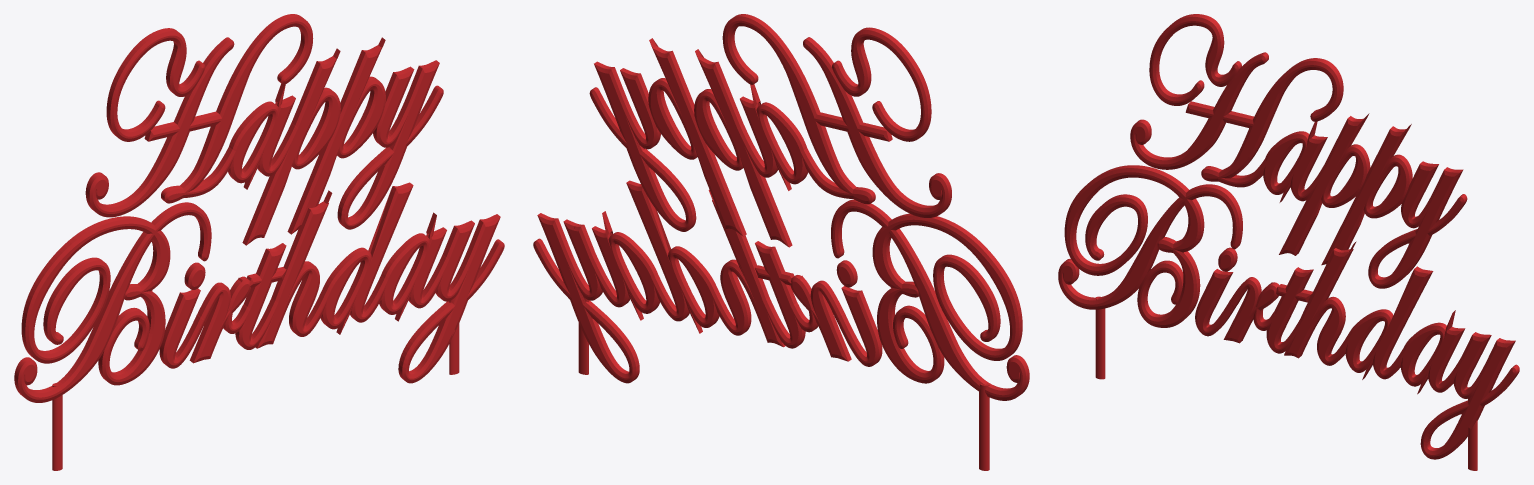
Rendered from hbdberdiri.fbx.
3 views of the same model, side by side, from view 1: azimuth 30°, elevation 25°; view 2: azimuth 150°, elevation 25°; view 3: azimuth 330°, elevation 25° (orthographic). The views are drawn at different scales.
Parts seen in each view (by area): view 1: Cylinder.001; view 2: Cylinder.001; view 3: Cylinder.001.
Boxes of the visible parts, x1,y1,x2,y2 form: Cylinder.001: (14, 14, 504, 470); Cylinder.001: (533, 14, 1029, 470); Cylinder.001: (1058, 14, 1519, 470).
Bounding box in the file's own units: 187 × 151 × 6.23.
